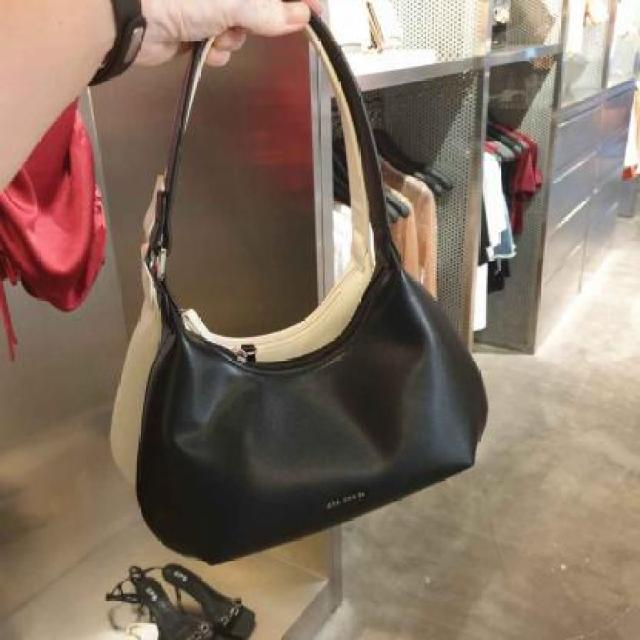Bag: (83, 2, 499, 575)
